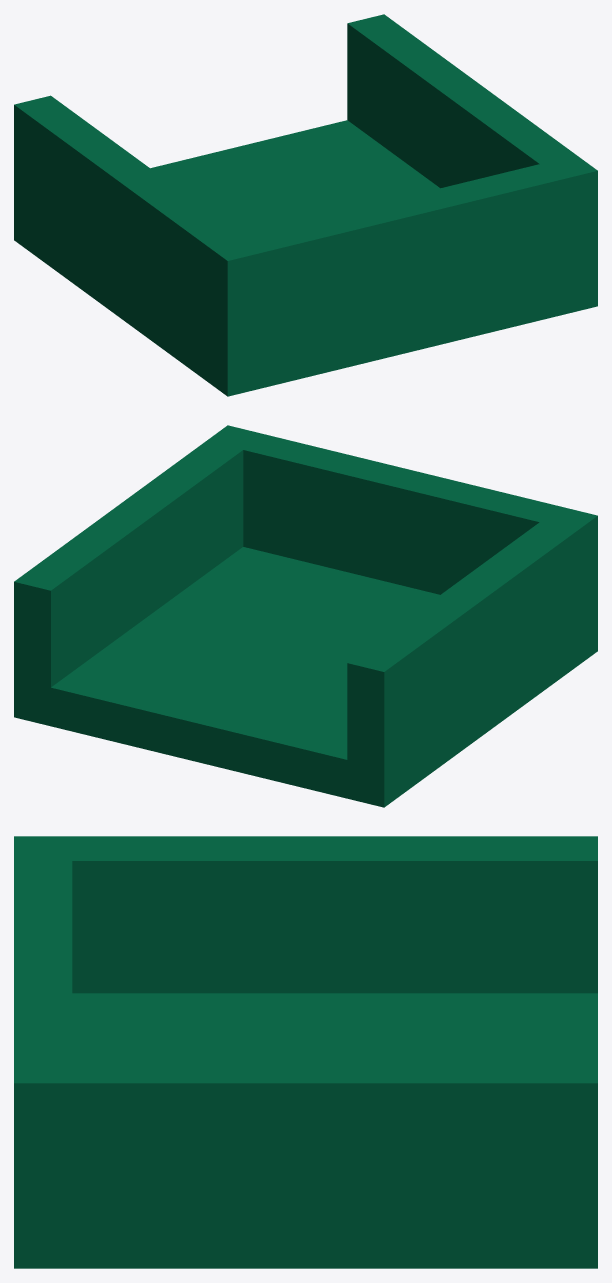
File: GreenRoof_3Edges_Small.glb
3 views of the same model, one above another, from view 1: azimuth 30°, elevation 25°; view 2: azimuth 150°, elevation 25°; view 3: azimuth 270°, elevation 25° (orthographic). The views are drawn at different scales.
Parts seen in each view (by area): view 1: roof_flat_3Edges_small_green; view 2: roof_flat_3Edges_small_green; view 3: roof_flat_3Edges_small_green.
Boxes of the visible parts, left/top/right/bottom form: roof_flat_3Edges_small_green: left=14, top=14, right=597, bottom=396; roof_flat_3Edges_small_green: left=14, top=425, right=597, bottom=807; roof_flat_3Edges_small_green: left=14, top=836, right=597, bottom=1268.
Size of what is drawn, in the model's own units: 2 by 0.7 by 2.
1 material, 1 textured.
